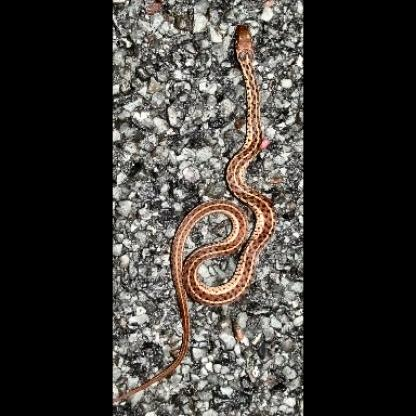Snake: (155, 21, 277, 380)
